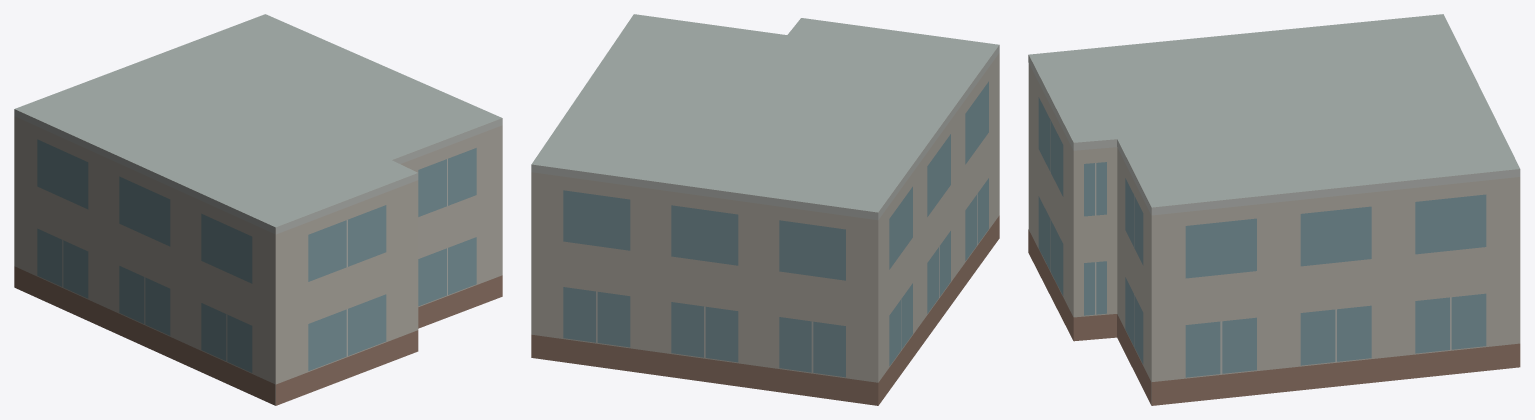
File: survey-upis-32866193.glb
The picture shows the model from 3 angles, left to right: view 1: azimuth 30°, elevation 25°; view 2: azimuth 150°, elevation 25°; view 3: azimuth 270°, elevation 25°; orthographic projection. The views are drawn at different scales.
Parts seen in each view (by area): view 1: survey-upis-32866193.tmp; view 2: survey-upis-32866193.tmp; view 3: survey-upis-32866193.tmp.
Part boxes in pixels (x1=…): survey-upis-32866193.tmp: x1=14, y1=14, x2=502, y2=405; survey-upis-32866193.tmp: x1=531, y1=14, x2=999, y2=405; survey-upis-32866193.tmp: x1=1028, y1=14, x2=1520, y2=405.
Size of the model in its own units: 12.78 by 6.1 by 13.72.
